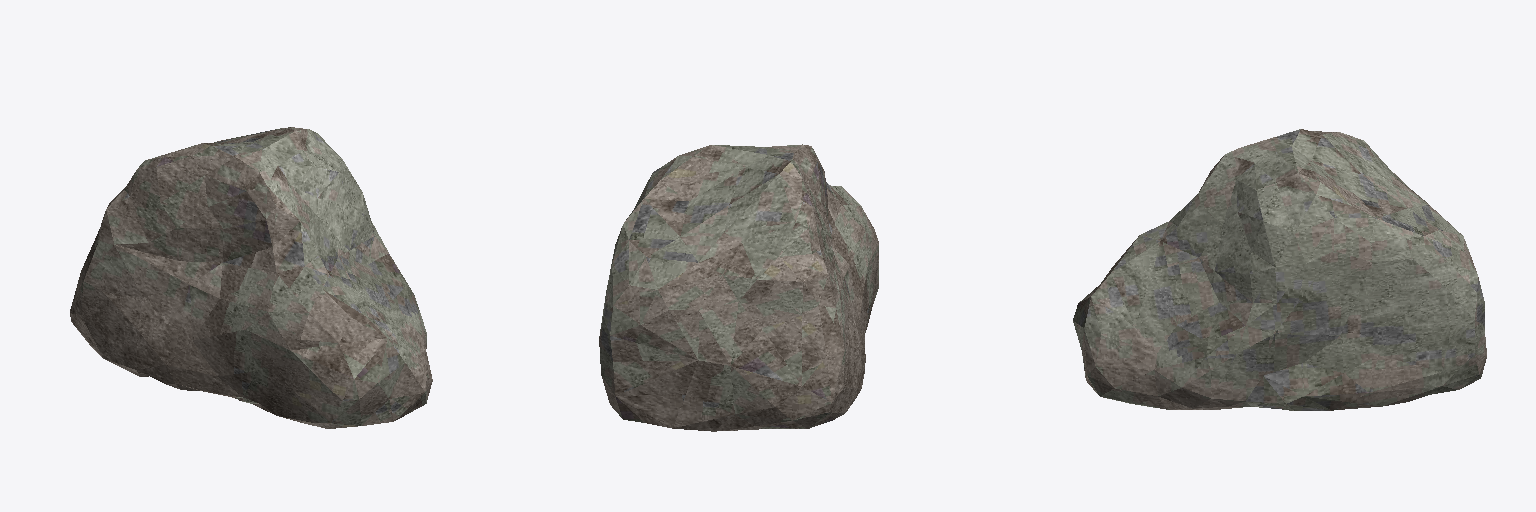
The picture shows the model from 3 angles: view 1: azimuth 30°, elevation 25°; view 2: azimuth 150°, elevation 25°; view 3: azimuth 270°, elevation 25°; orthographic projection.
Parts seen in each view (by area): view 1: Mesh1 skp72_1 Rock1 Model; view 2: Mesh1 skp72_1 Rock1 Model; view 3: Mesh1 skp72_1 Rock1 Model.
Boxes of the visible parts, box(x1,y1,x2,y2) form: Mesh1 skp72_1 Rock1 Model: box(70, 127, 432, 428); Mesh1 skp72_1 Rock1 Model: box(599, 144, 878, 431); Mesh1 skp72_1 Rock1 Model: box(1073, 129, 1486, 410).
Bounding box in the file's own units: 0.5364 × 0.452 × 0.7663.
Materials: 1 (1 with a texture image).